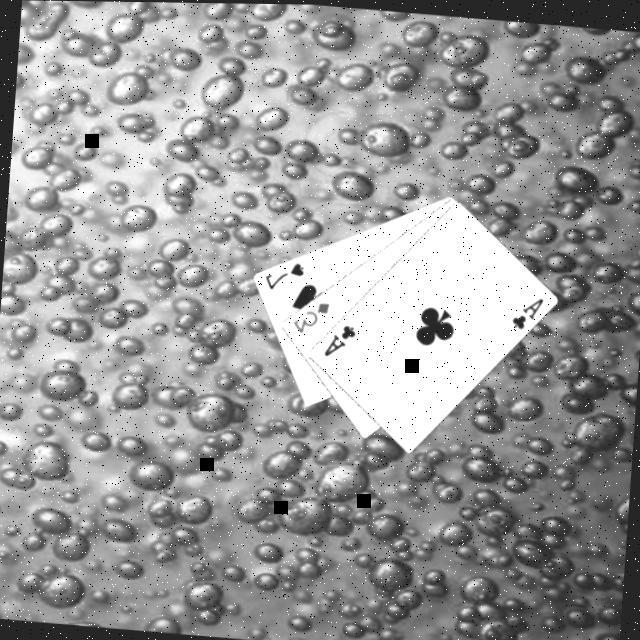3D: (286, 293, 332, 335)
7S: (259, 254, 306, 292)
AC: (318, 316, 358, 358), (506, 288, 544, 330)
